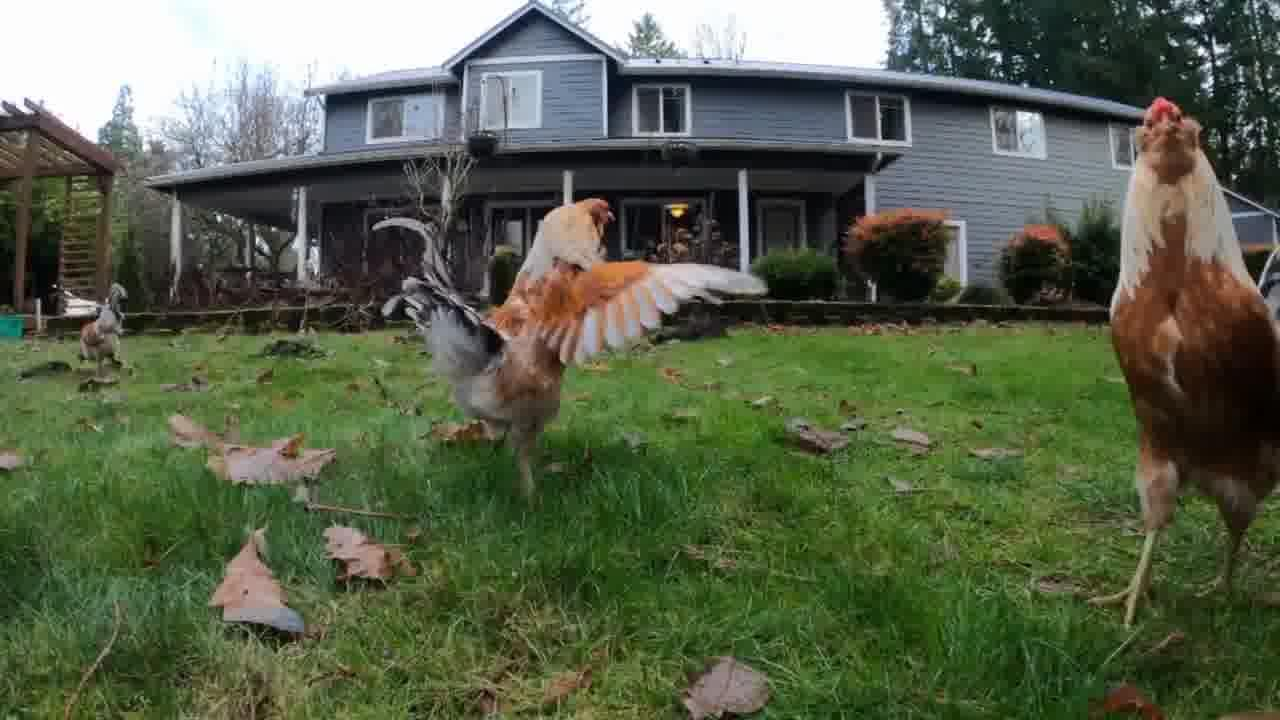Normal: (400, 192, 738, 494), (1092, 90, 1278, 636)
